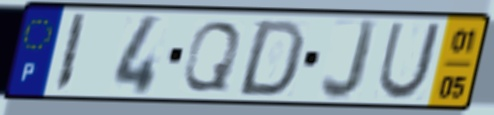4: (111, 12, 159, 98)
D: (233, 17, 309, 99)
I: (51, 11, 90, 95)
J: (318, 17, 381, 104)
Q: (178, 18, 245, 94)
U: (374, 21, 445, 102)
